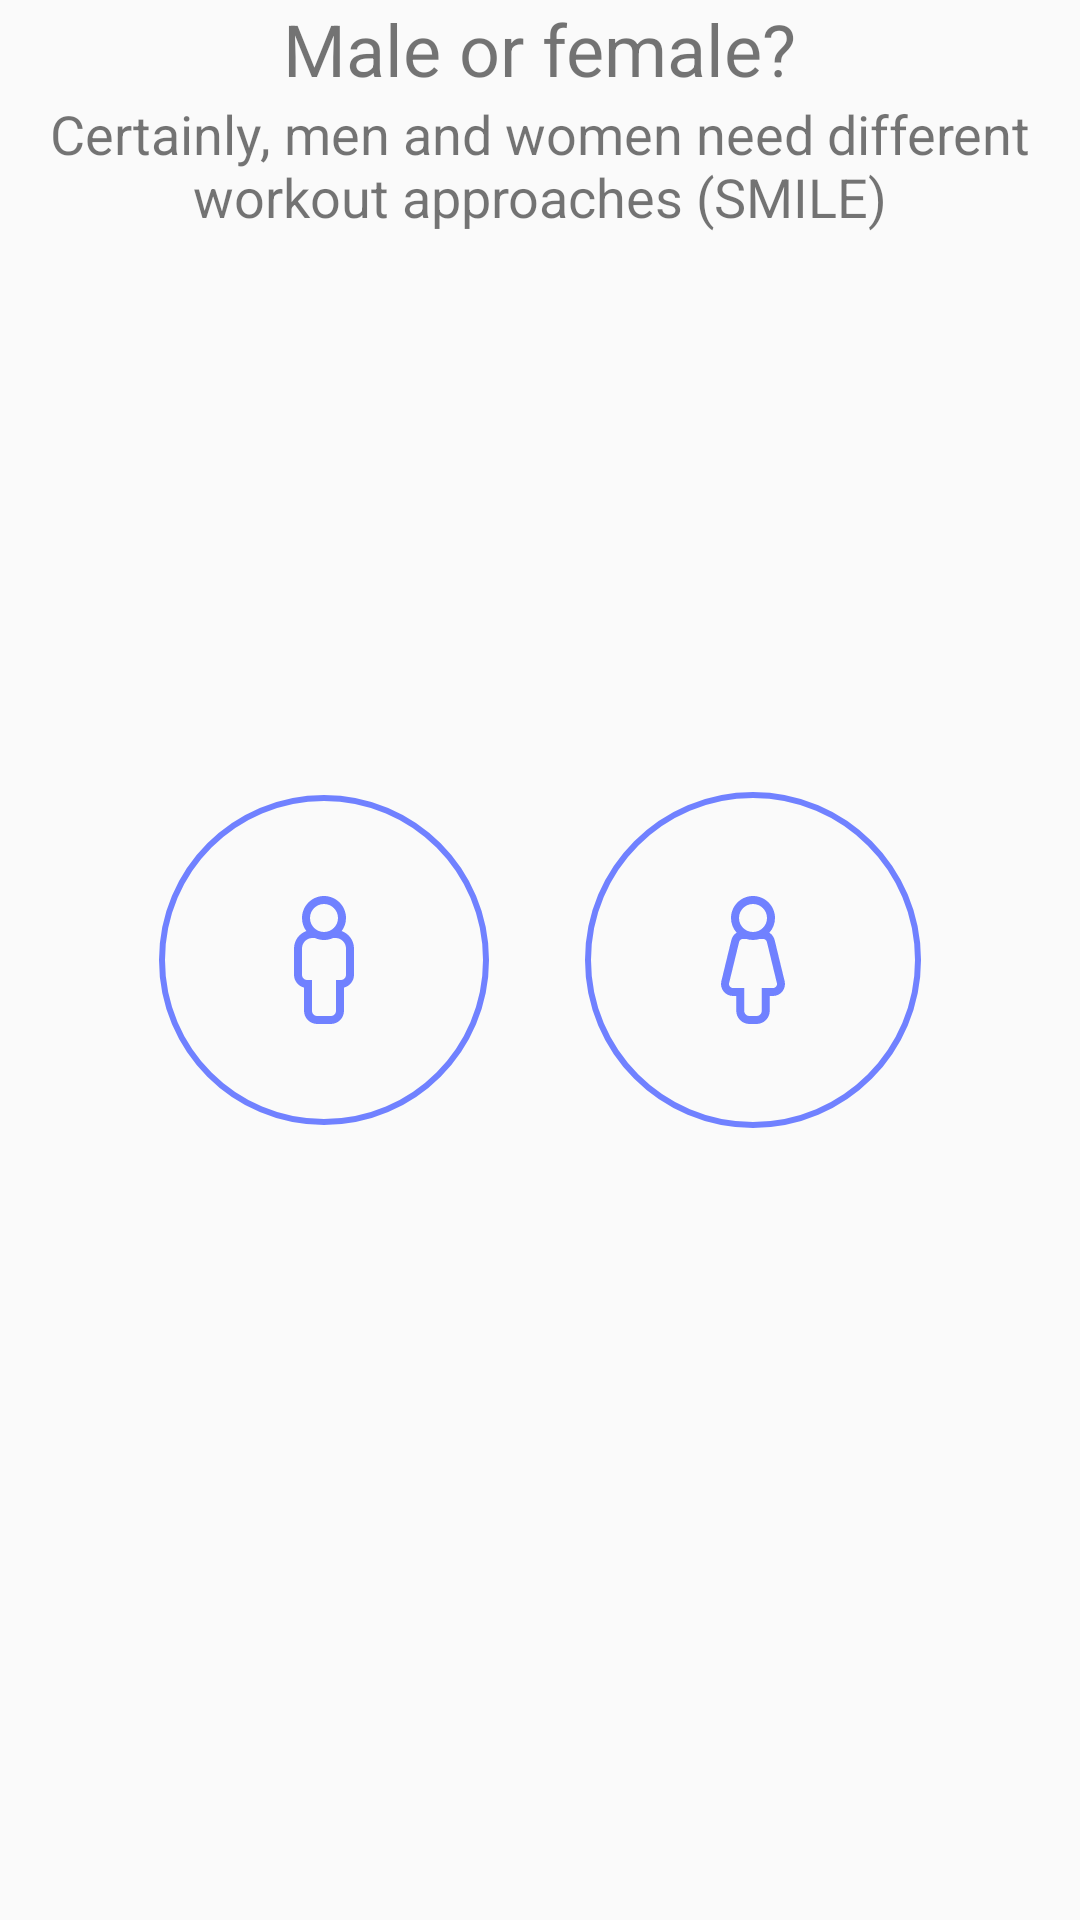

Named icons in this screenshot (1080*1920) and their centers, [x,y]:
female: [753,960]
male: [324,960]
